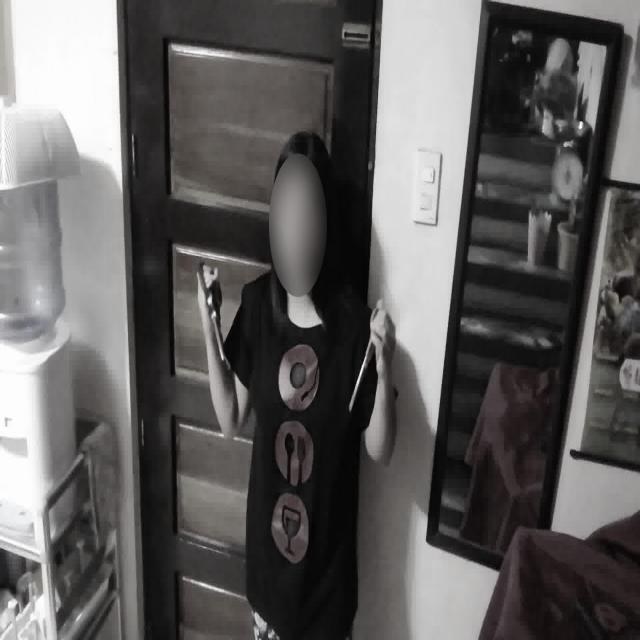scissor: (348, 308, 380, 412), (197, 260, 226, 360)
